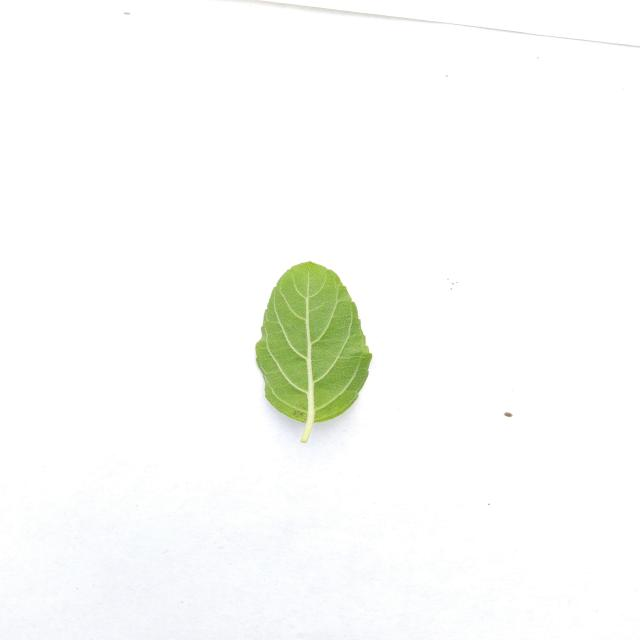tulsi: (255, 261, 372, 442)
